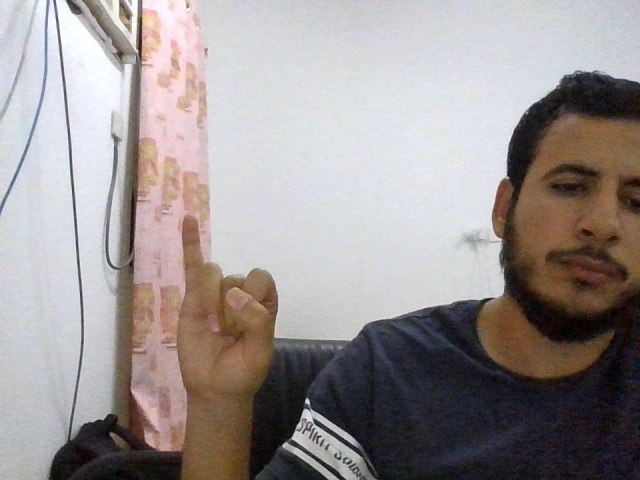One: (177, 215, 278, 396)
